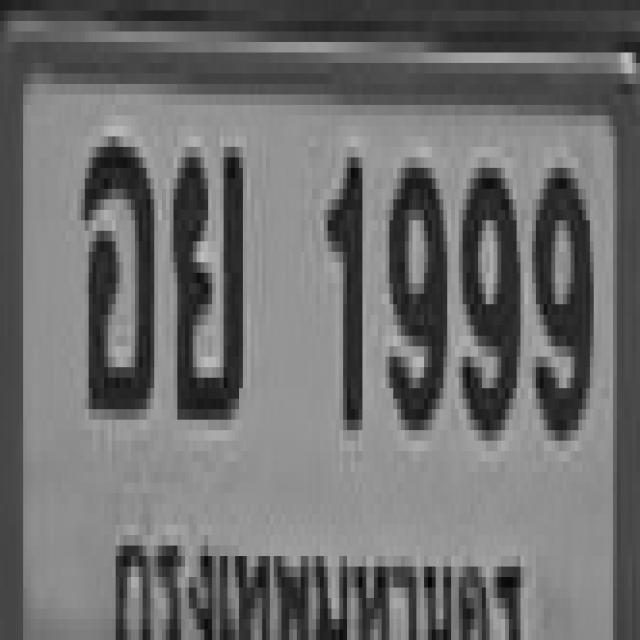1: (324, 147, 358, 420)
43YorYak: (170, 136, 239, 410)
52OrAng: (77, 126, 150, 409)
9: (386, 147, 444, 420), (532, 157, 590, 430), (458, 157, 516, 430)
Bangkok: (112, 524, 532, 640)
